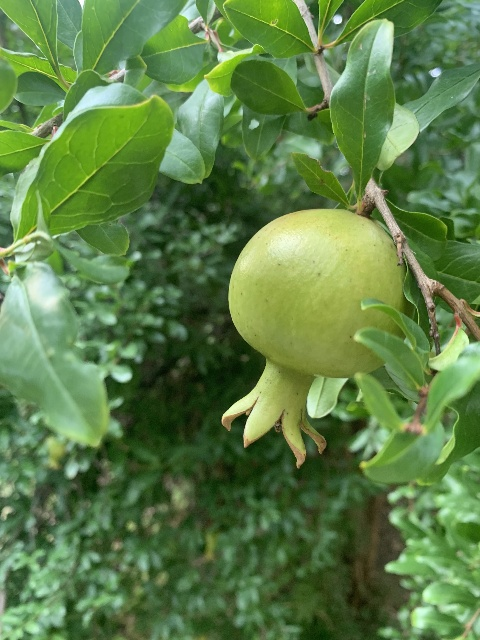mid-growth: (221, 207, 413, 470)
